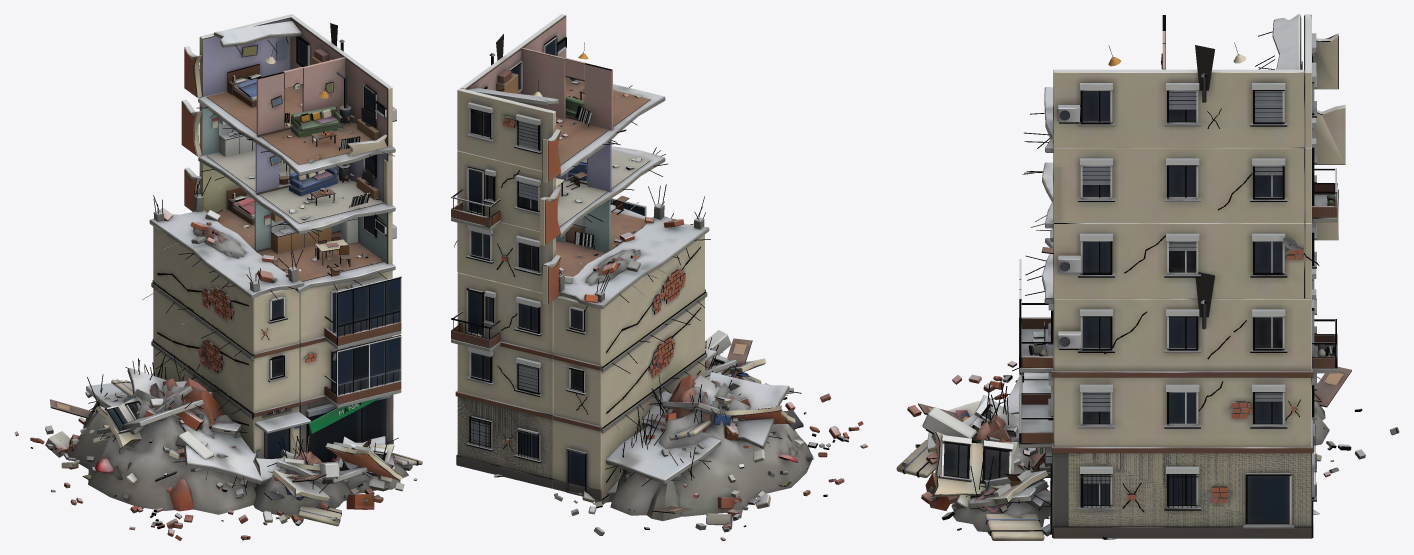
The model's file is bld_cut_half.glb.
3 renders of one model, left to right at view 1: azimuth 30°, elevation 25°; view 2: azimuth 150°, elevation 25°; view 3: azimuth 270°, elevation 25°, orthographic. The views are drawn at different scales.
Parts seen in each view (by area): view 1: bld_cut_half; view 2: bld_cut_half; view 3: bld_cut_half.
Part boxes in pixels (<box>): bld_cut_half: <box>14,14,422,540</box>; bld_cut_half: <box>451,14,867,540</box>; bld_cut_half: <box>896,14,1399,540</box>.
Bounding box in the file's own units: 16.01 × 19.59 × 17.52.
1 material, 1 textured.
